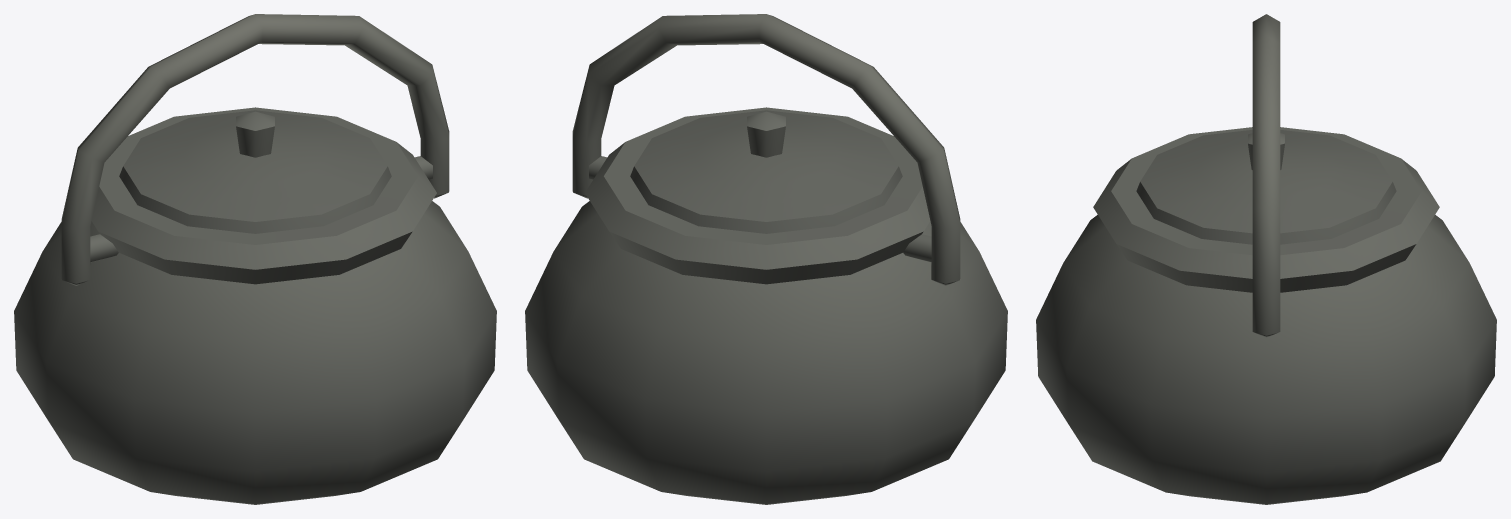
Rendered from Pot_Steel_D.fbx.
3 views of the same model, side by side, from view 1: azimuth 30°, elevation 25°; view 2: azimuth 150°, elevation 25°; view 3: azimuth 270°, elevation 25° (orthographic). The views are drawn at different scales.
Visible parts, largest first — view 1: Pot_Steel_D; view 2: Pot_Steel_D; view 3: Pot_Steel_D.
Boxes of the visible parts, <box> form: Pot_Steel_D: <box>14,14,496,504</box>; Pot_Steel_D: <box>525,14,1007,504</box>; Pot_Steel_D: <box>1036,14,1496,504</box>.
Size of the model in its own units: 72.79 by 70.39 by 72.79.
